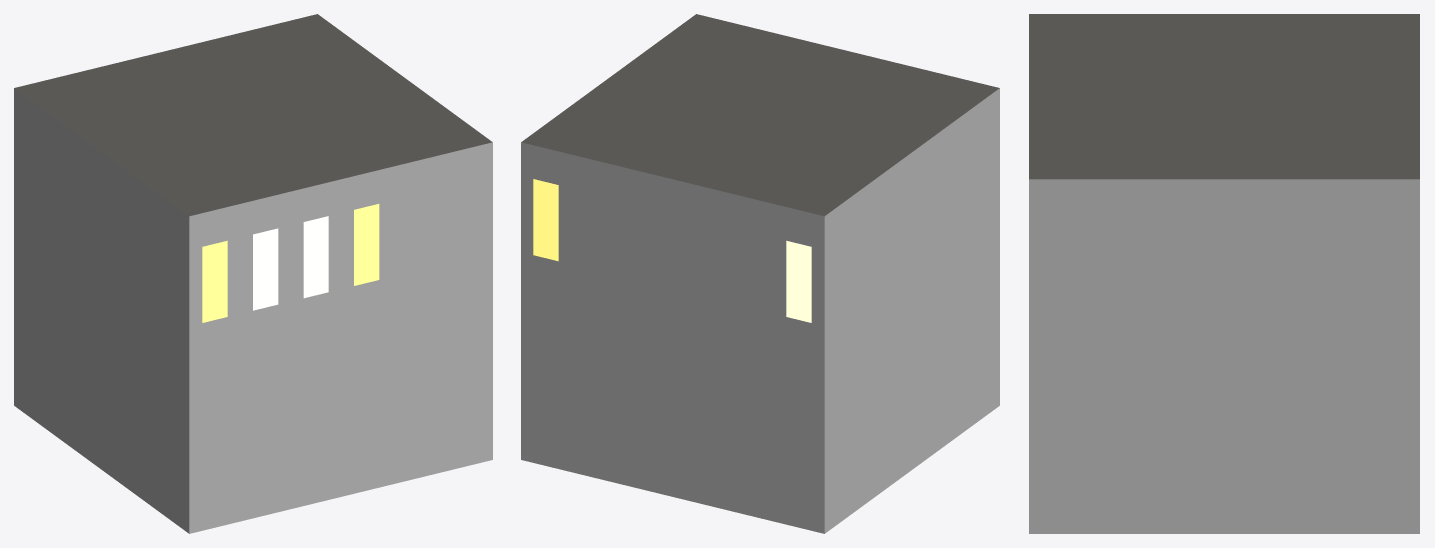
The model's file is city-block-lit-2.glb.
The picture shows the model from 3 angles, left to right: view 1: azimuth 30°, elevation 25°; view 2: azimuth 150°, elevation 25°; view 3: azimuth 270°, elevation 25°; orthographic projection. The views are drawn at different scales.
Visible parts, largest first — view 1: city_block, window warm, window amber; view 2: city_block, window warm, window amber; view 3: city_block.
Part boxes in pixels (x1=…): city_block: x1=14, y1=14, x2=492, y2=533; window warm: x1=253, y1=216, x2=328, y2=310; window amber: x1=202, y1=204, x2=379, y2=322; city_block: x1=521, y1=14, x2=999, y2=533; window warm: x1=786, y1=240, x2=811, y2=322; window amber: x1=533, y1=179, x2=558, y2=261; city_block: x1=1029, y1=14, x2=1419, y2=533.
Size of the model in its own units: 1 by 1 by 1.
